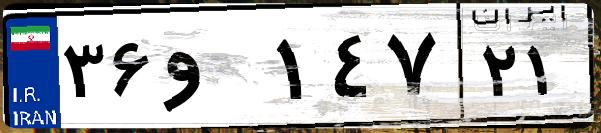1: (270, 28, 330, 110), (525, 38, 570, 115)
2: (475, 38, 525, 113)
3: (57, 26, 110, 100)
4: (330, 28, 385, 110)
6: (110, 28, 158, 98)
7: (385, 28, 445, 110)
و: (158, 20, 270, 120)
